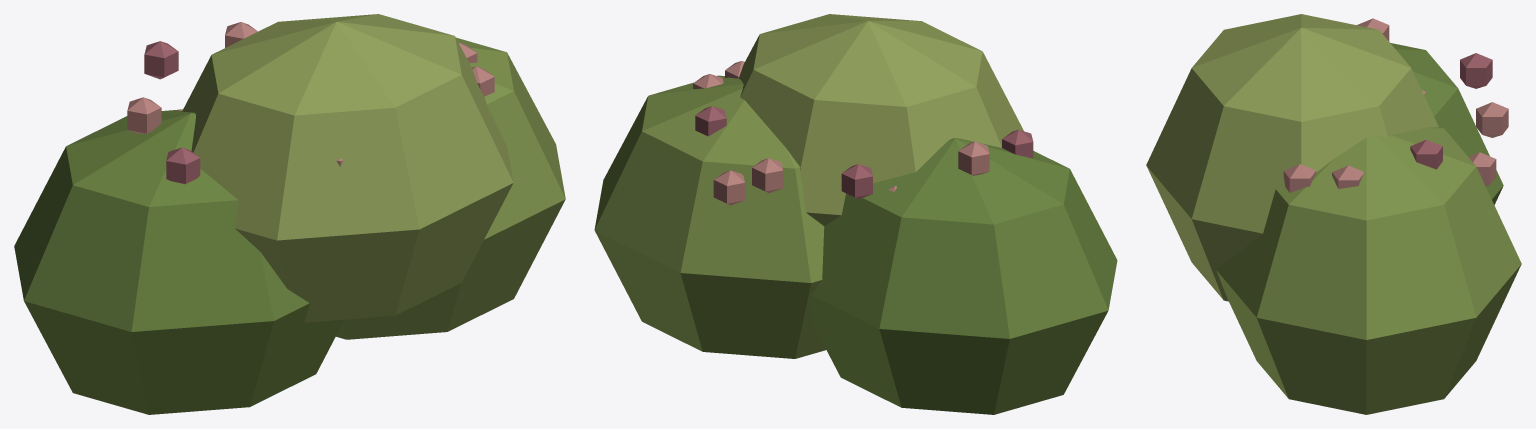
The model's file is bush-berry.glb.
3 views of the same model, side by side, from view 1: azimuth 30°, elevation 25°; view 2: azimuth 150°, elevation 25°; view 3: azimuth 270°, elevation 25° (orthographic). The views are drawn at different scales.
Visible parts, largest first — view 1: bush-berry_mesh; view 2: bush-berry_mesh; view 3: bush-berry_mesh.
Part boxes in pixels (x1,y1,x2,y2): bush-berry_mesh: (14, 14, 565, 414); bush-berry_mesh: (594, 14, 1117, 414); bush-berry_mesh: (1146, 14, 1521, 414).
Size of the model in its own units: 1.62 by 1.07 by 1.04.
